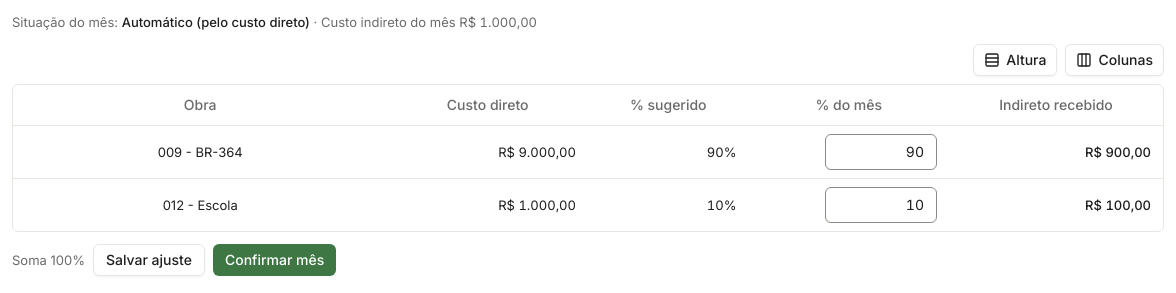
RateioIndiretoTabela › soma diferente de 100% bloqueia salvar e diz quanto falta
Replace the text in the field named "Percentual de 009 - BR-364" with "80": (881, 152) [825,134,937,170]
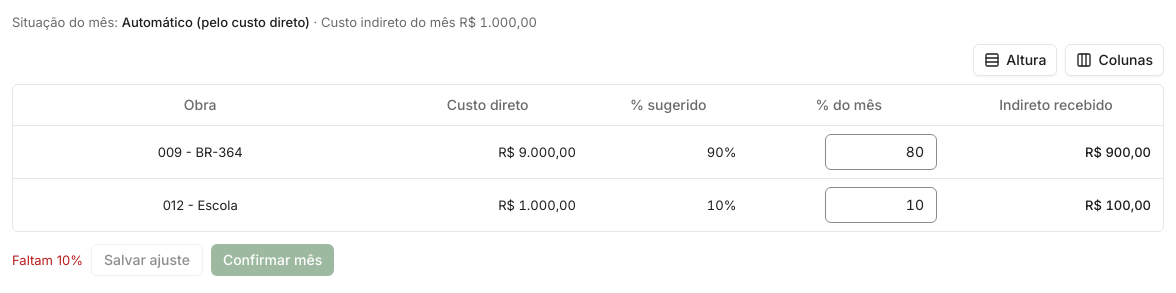
Result: the text "Faltam 10%" is shown at [12,250,83,270]
Result: the button "Salvar ajuste" is disabled at [91,244,203,276]
